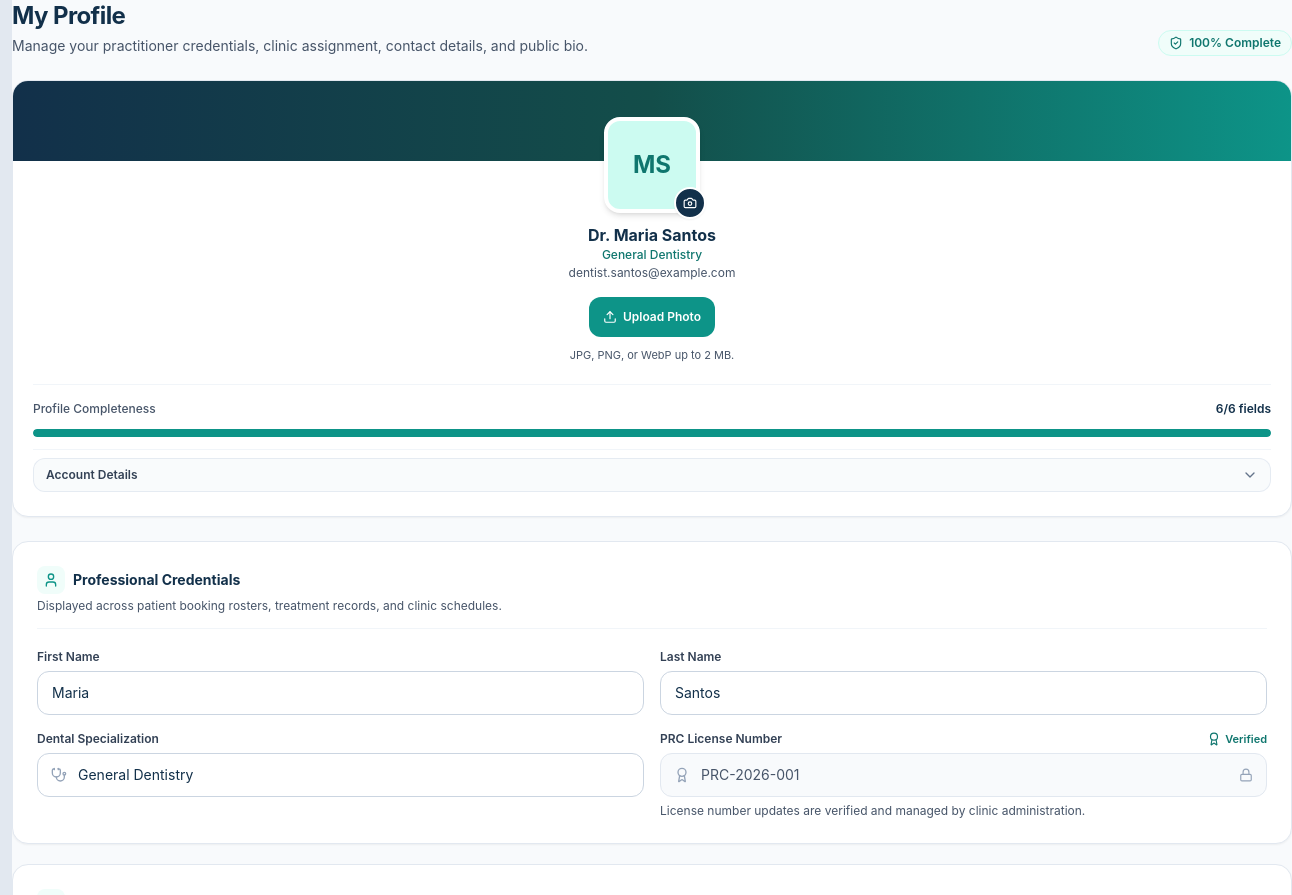
Test case: DentistProfilePage Component › discards unsaved changes back to loaded snapshot
Replace the text in the field showing "General Dentistry" with "Orthodontics" at (340, 774), box top-left (37, 752), bottom-right (644, 796)
(page scrolled)
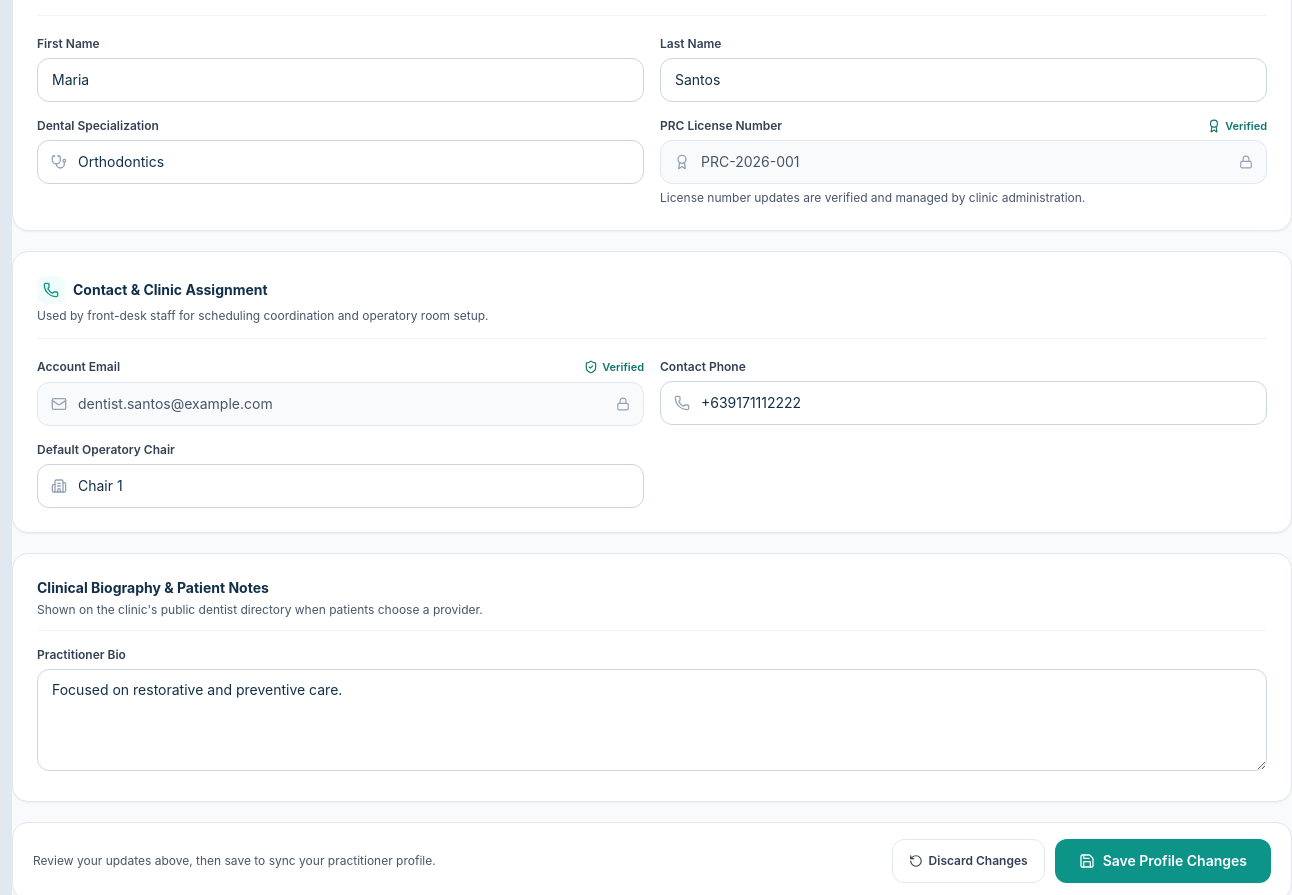
Click the button "Discard Changes" at (968, 860), box top-left (892, 838), bottom-right (1045, 882)
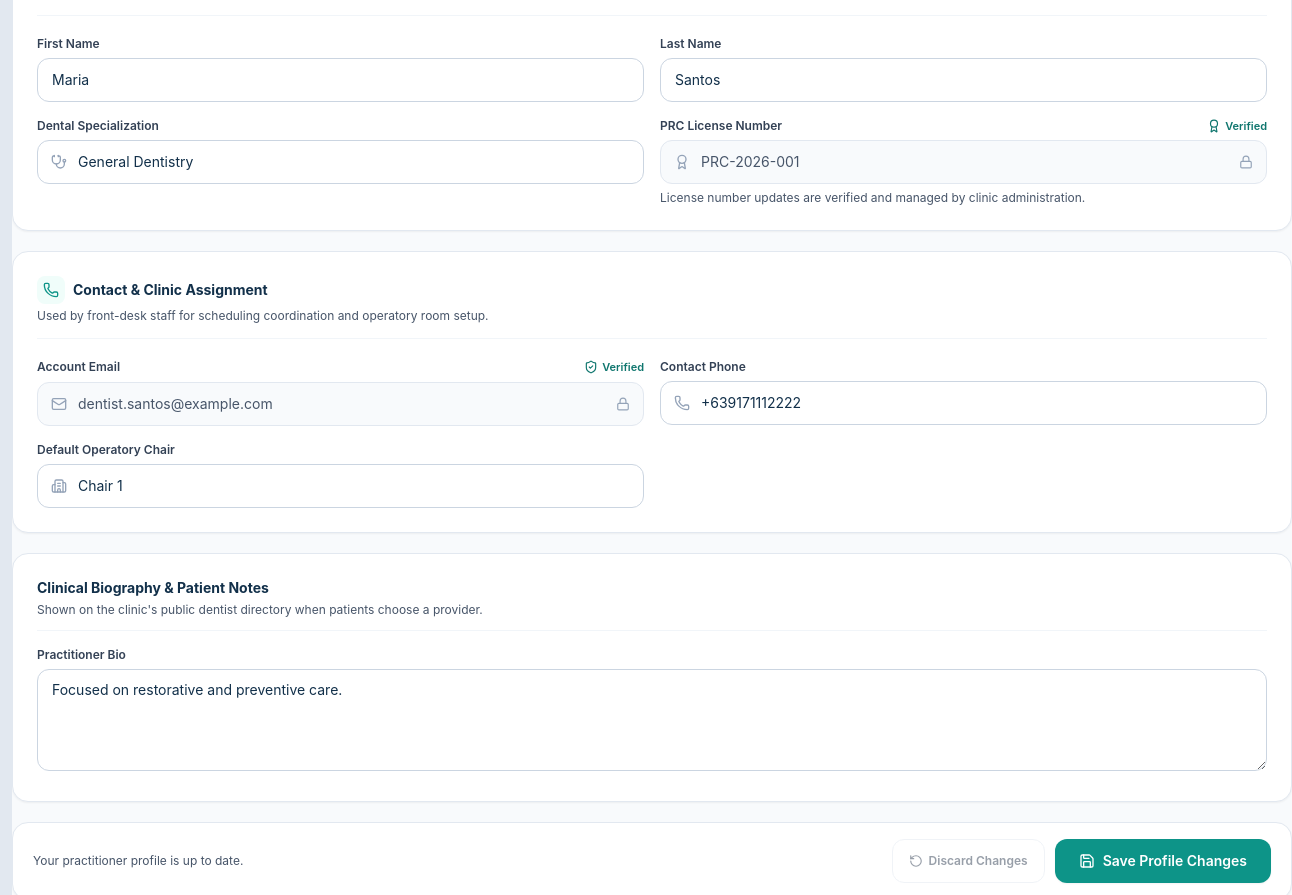
Expected: the field showing "General Dentistry" is shown, top-left (37, 140), bottom-right (644, 184)
